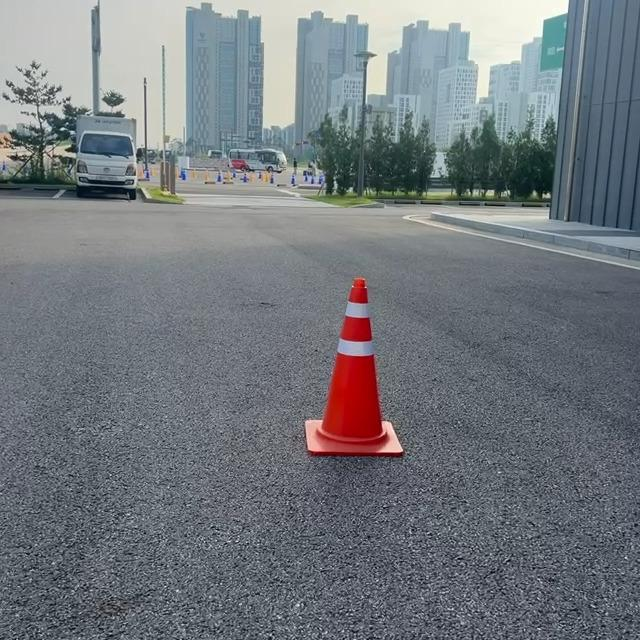fallen_object: (263, 263, 481, 550)
